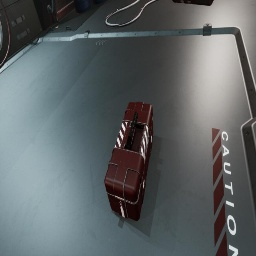FirstAidBox ,: (104, 102, 153, 221)
NitrogenTank ,: (170, 0, 214, 6)
